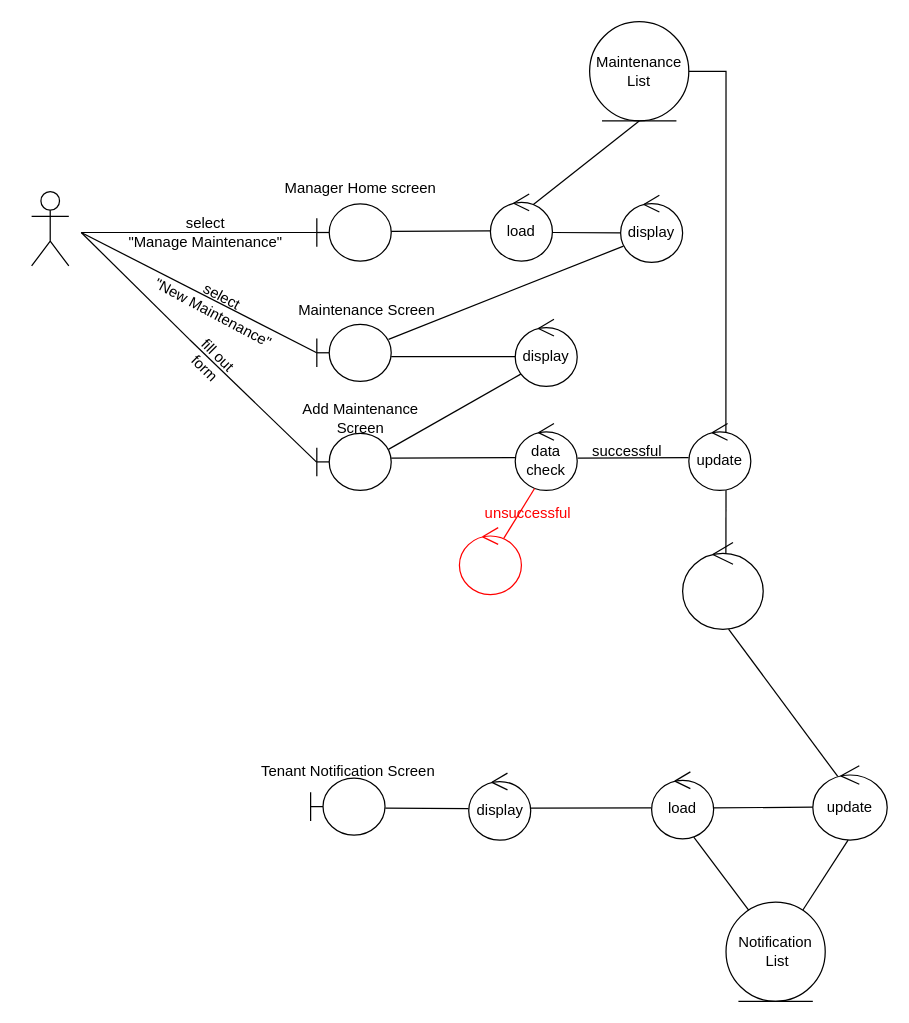
Image size: 909x1023. Some labels were removed from this diagram. Here are the shapes that lost their labels. From the top down, the box of each, then its label:
(30, 190, 69, 266): Manager
(458, 526, 521, 595): error message
(681, 541, 763, 629): create Notification
